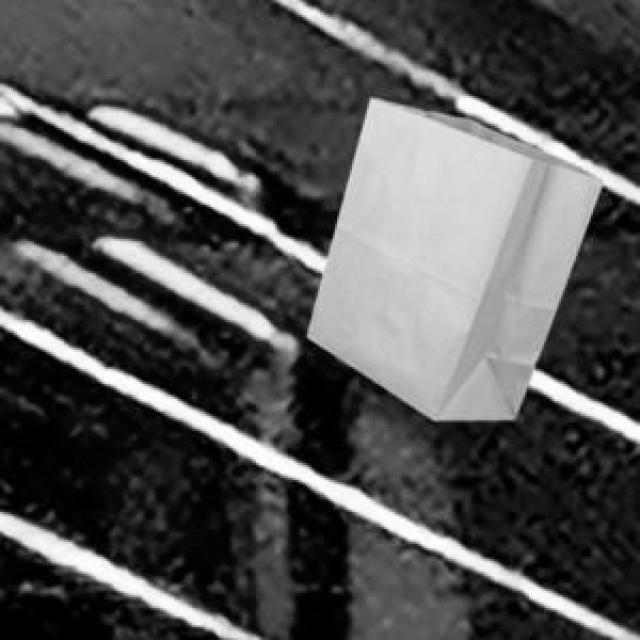paper: (303, 94, 600, 416)
